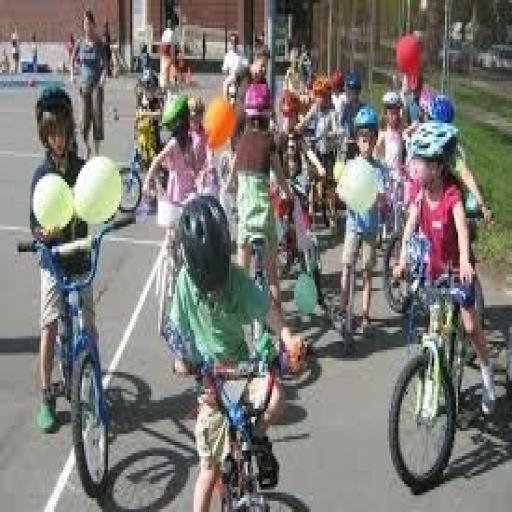cycling: (162, 190, 307, 509), (389, 118, 501, 422), (331, 103, 393, 347)
